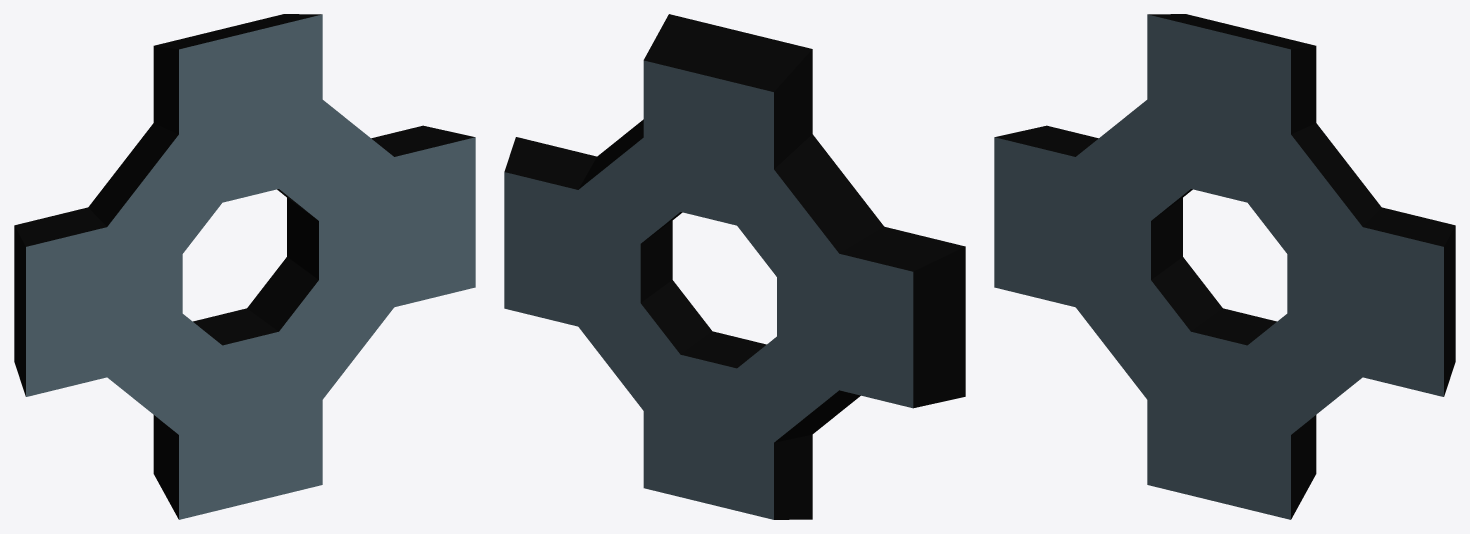
File: itemGear4.fbx
The picture shows the model from 3 angles, left to right: view 1: azimuth 30°, elevation 25°; view 2: azimuth 150°, elevation 25°; view 3: azimuth 330°, elevation 25°; orthographic projection.
Visible parts, largest first — view 1: gear4; view 2: gear4; view 3: gear4.
Boxes of the visible parts, x1,y1,x2,y2 form: gear4: (14,14,475,519); gear4: (504,14,965,519); gear4: (994,14,1455,519).
Bounding box in the file's own units: 151 × 151 × 18.59.
